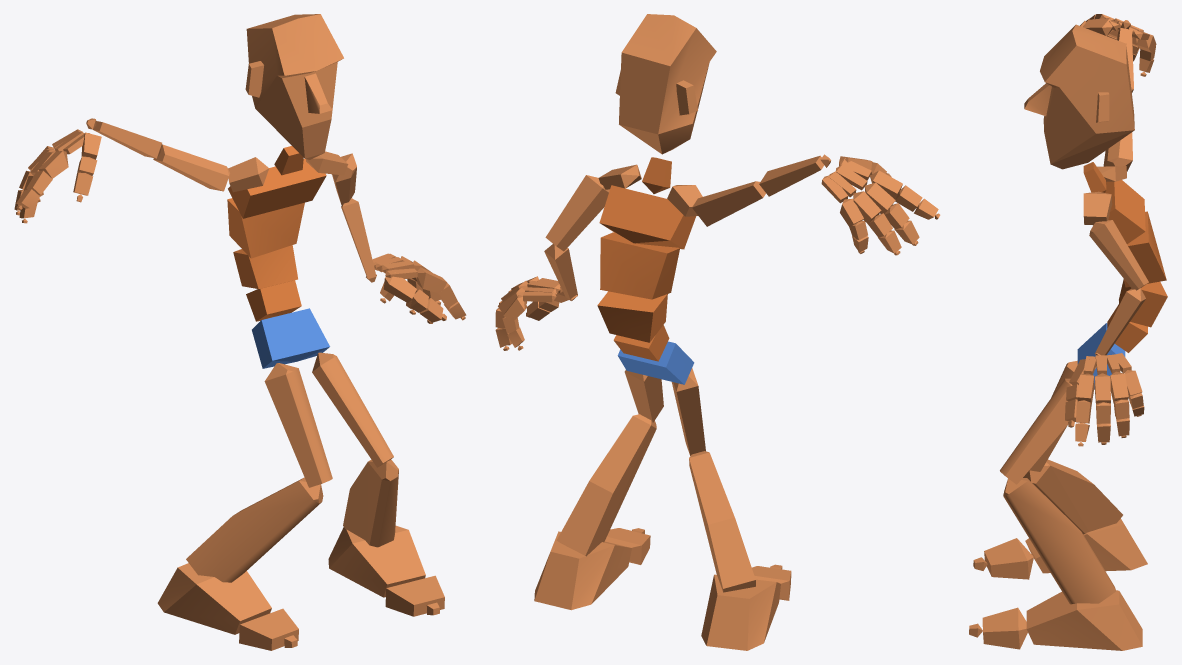
The picture shows the model from 3 angles, left to right: view 1: azimuth 30°, elevation 25°; view 2: azimuth 150°, elevation 25°; view 3: azimuth 270°, elevation 25°; orthographic projection. The views are drawn at different scales.
Parts seen in each view (by area): view 1: BOPED_Head, BOPED_R_leg, BOPED_R_foot, BOPED_R_foot01, BOPED_R_legup, BOPED_L_leg, Bone01, BOPED_L_legup, Bone04, Bone05, Bone03, BOPED_R_arm_upper (+8 smaller); view 2: BOPED_Head, BOPED_L_leg, BOPED_R_foot01, BOPED_R_leg, BOPED_R_foot, Bone04, Bone05, Bone03, BOPED_L_arm_upper, Bone01, BOPED_R_arm_upper, BOPED_R_legup (+9 smaller); view 3: BOPED_Head, BOPED_L_leg, BOPED_R_foot01, BOPED_R_leg, BOPED_L_legup, BOPED_R_foot, BOPED_L_arm_upper, Bone05, BOPED_R_foot_toe01, BOPED_R_foot_toe04, Bone04, BOPED_L_arm_fore (+17 smaller).
Boxes of the visible parts, bbox=[...] form: BOPED_Head: bbox=[245, 14, 343, 159]; BOPED_R_leg: bbox=[186, 477, 323, 582]; BOPED_R_foot: bbox=[157, 563, 271, 634]; BOPED_R_foot01: bbox=[328, 525, 425, 597]; BOPED_R_legup: bbox=[264, 363, 332, 487]; BOPED_L_leg: bbox=[343, 459, 398, 547]; Bone01: bbox=[252, 308, 329, 368]; BOPED_L_legup: bbox=[312, 352, 393, 467]; Bone04: bbox=[227, 198, 304, 258]; Bone05: bbox=[228, 158, 326, 218]; Bone03: bbox=[233, 245, 297, 288]; BOPED_R_arm_upper: bbox=[153, 144, 229, 191]; BOPED_Head: bbox=[615, 14, 716, 154]; BOPED_L_leg: bbox=[556, 414, 656, 556]; BOPED_R_foot01: bbox=[534, 531, 631, 610]; BOPED_R_leg: bbox=[689, 451, 755, 592]; BOPED_R_foot: bbox=[701, 574, 780, 650]; Bone04: bbox=[600, 232, 679, 299]; Bone05: bbox=[599, 185, 696, 249]; Bone03: bbox=[597, 291, 667, 342]; BOPED_L_arm_upper: bbox=[545, 175, 609, 251]; Bone01: bbox=[617, 341, 694, 384]; BOPED_R_arm_upper: bbox=[692, 181, 765, 226]; BOPED_R_legup: bbox=[671, 368, 705, 455]; BOPED_Head: bbox=[1024, 24, 1134, 169]; BOPED_L_leg: bbox=[1003, 478, 1116, 604]; BOPED_R_foot01: bbox=[1026, 590, 1142, 650]; BOPED_R_leg: bbox=[1023, 459, 1122, 534]; BOPED_L_legup: bbox=[1000, 378, 1072, 484]; BOPED_R_foot: bbox=[1025, 518, 1147, 573]; BOPED_L_arm_upper: bbox=[1089, 220, 1148, 290]; Bone05: bbox=[1105, 180, 1145, 243]; BOPED_R_foot_toe01: bbox=[984, 538, 1033, 579]; BOPED_R_foot_toe04: bbox=[982, 607, 1027, 649]; Bone04: bbox=[1124, 211, 1166, 287]; BOPED_L_arm_fore: bbox=[1095, 288, 1145, 355].
Size of the model in its own units: 142 by 178 by 56.5.
